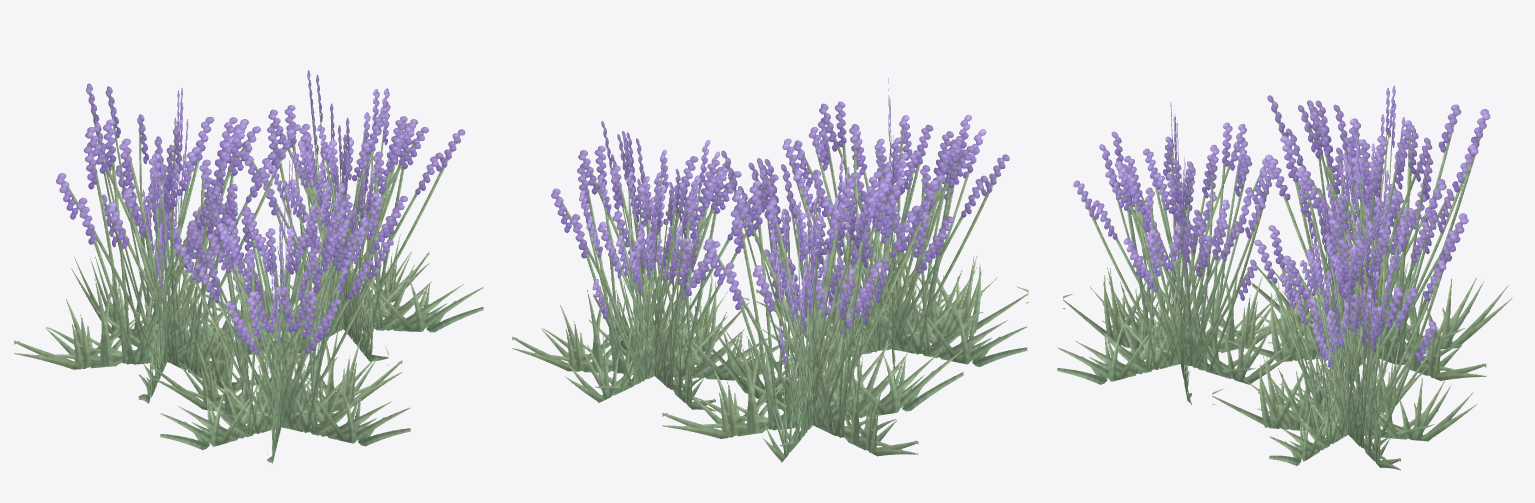
File: crop_lavender_3.glb
The picture shows the model from 3 angles, left to right: view 1: azimuth 30°, elevation 25°; view 2: azimuth 150°, elevation 25°; view 3: azimuth 270°, elevation 25°; orthographic projection. The views are drawn at different scales.
Visible parts, largest first — view 1: crop_lavender_3; view 2: crop_lavender_3; view 3: crop_lavender_3.
Boxes of the visible parts, x1=… form: crop_lavender_3: x1=14, y1=70, x2=483, y2=467; crop_lavender_3: x1=512, y1=78, x2=1028, y2=462; crop_lavender_3: x1=1057, y1=85, x2=1512, y2=470.
Bounding box in the file's own units: 0.781 × 0.52 × 0.7817.
1 material, 1 textured.
